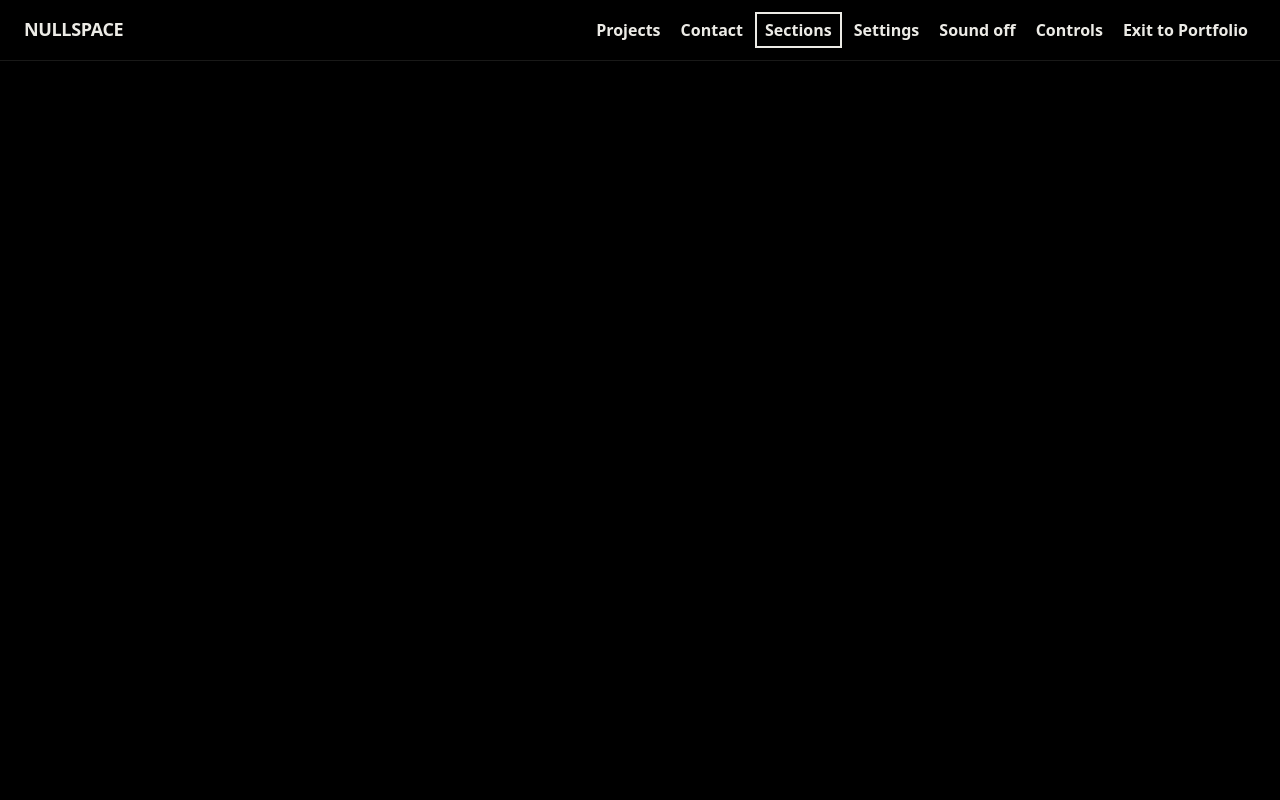
Test: Settings › Esc closes it
The width and height of the screenshot is (1280, 800).
Click the button "Settings". click: {"x": 886, "y": 30}
box: [846,14,927,46]
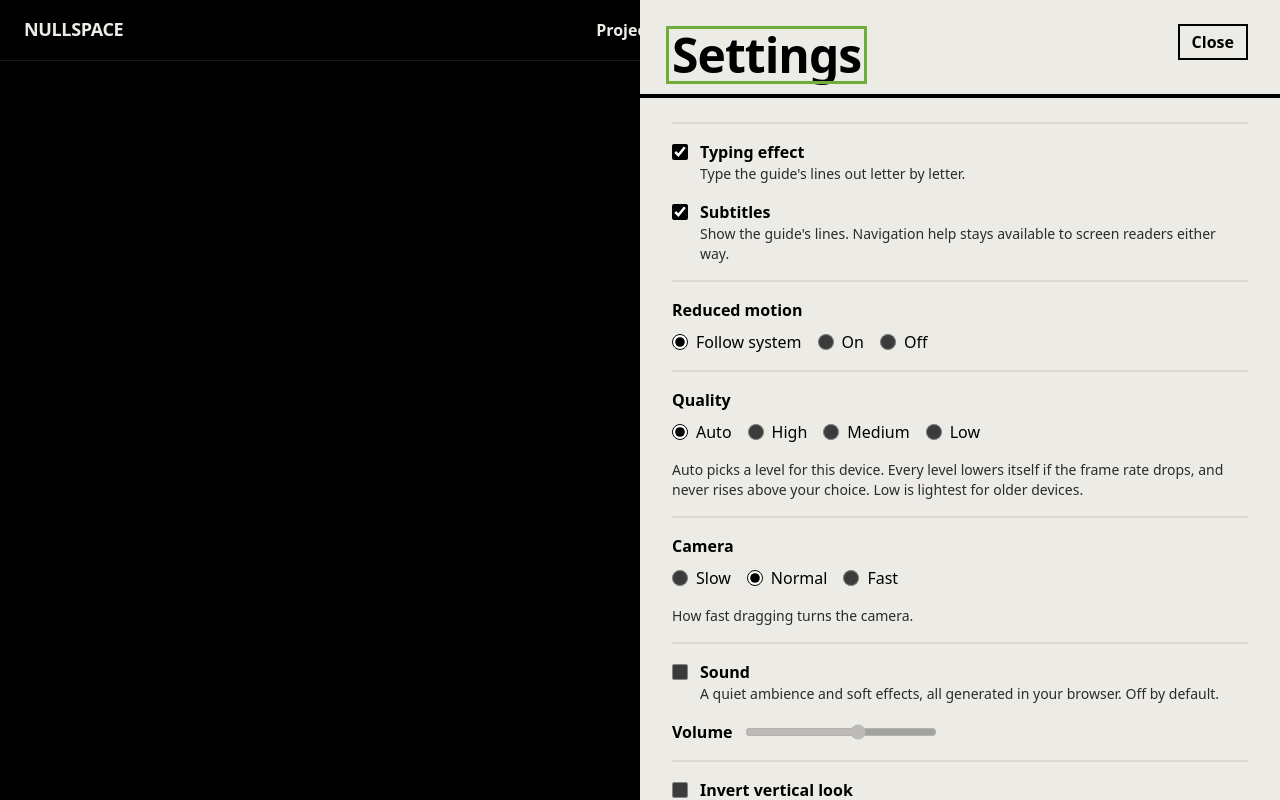
Press Escape
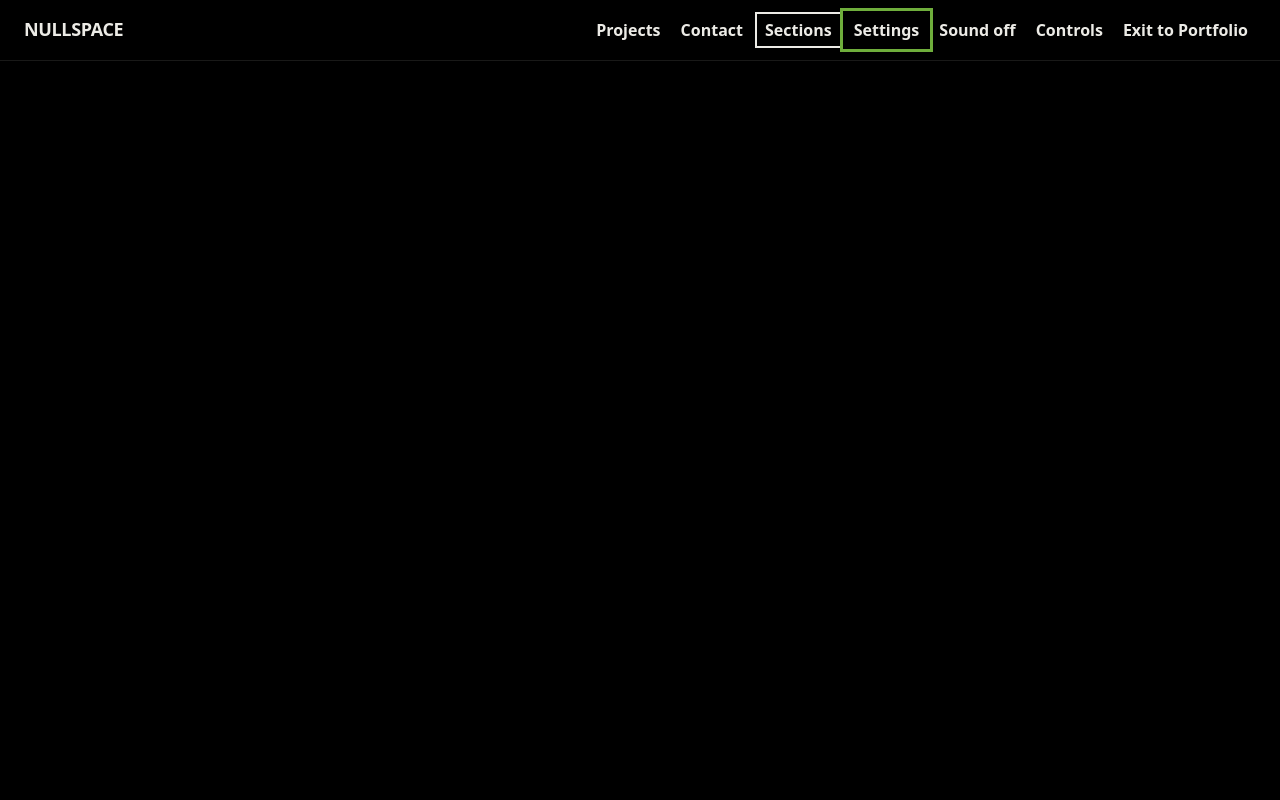
Expected: the dialog is gone
